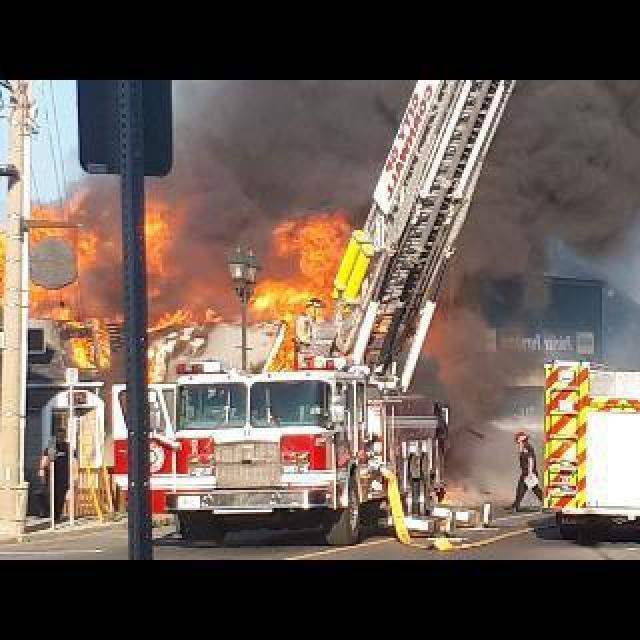Fire: (10, 192, 372, 366)
Smoke: (436, 286, 530, 500)
